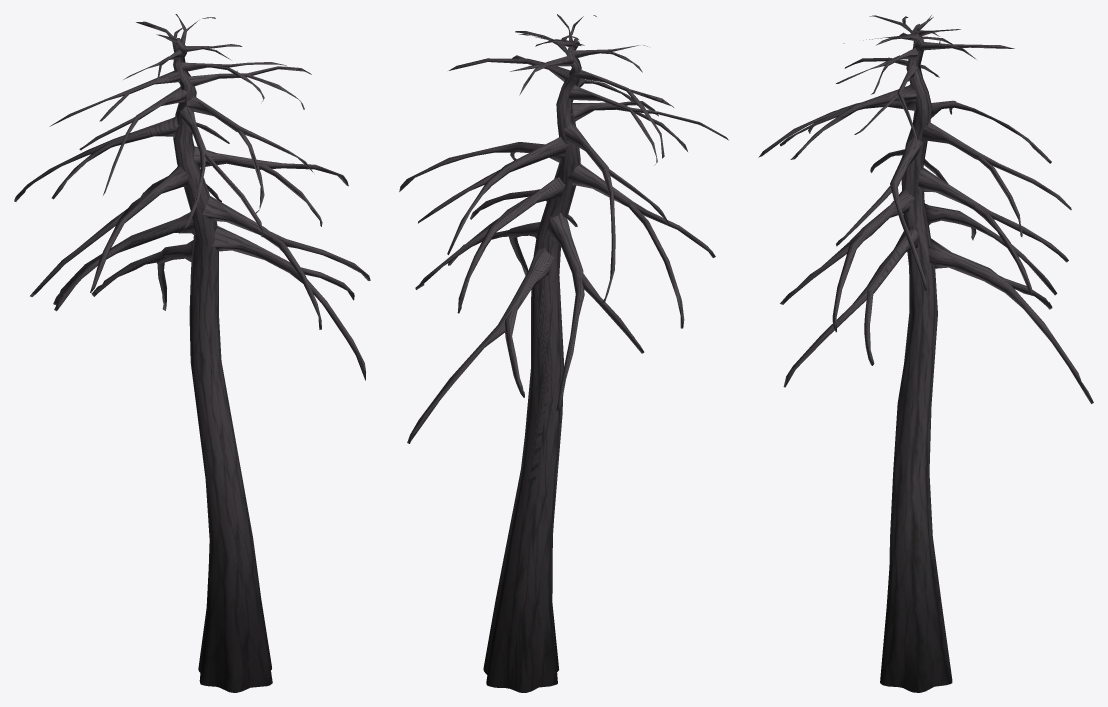
Rendered from DeadTree_3.gltf.
3 views of the same model, side by side, from view 1: azimuth 30°, elevation 25°; view 2: azimuth 150°, elevation 25°; view 3: azimuth 270°, elevation 25° (orthographic). The views are drawn at different scales.
Visible parts, largest first — view 1: DeadTree_3; view 2: DeadTree_3; view 3: DeadTree_3.
Boxes of the visible parts, x1,y1,x2,y2 form: DeadTree_3: (14,14,370,692); DeadTree_3: (399,14,728,692); DeadTree_3: (758,15,1093,692).
Size of the model in its own units: 6.38 by 13.25 by 6.41.
1 material, 1 textured.
